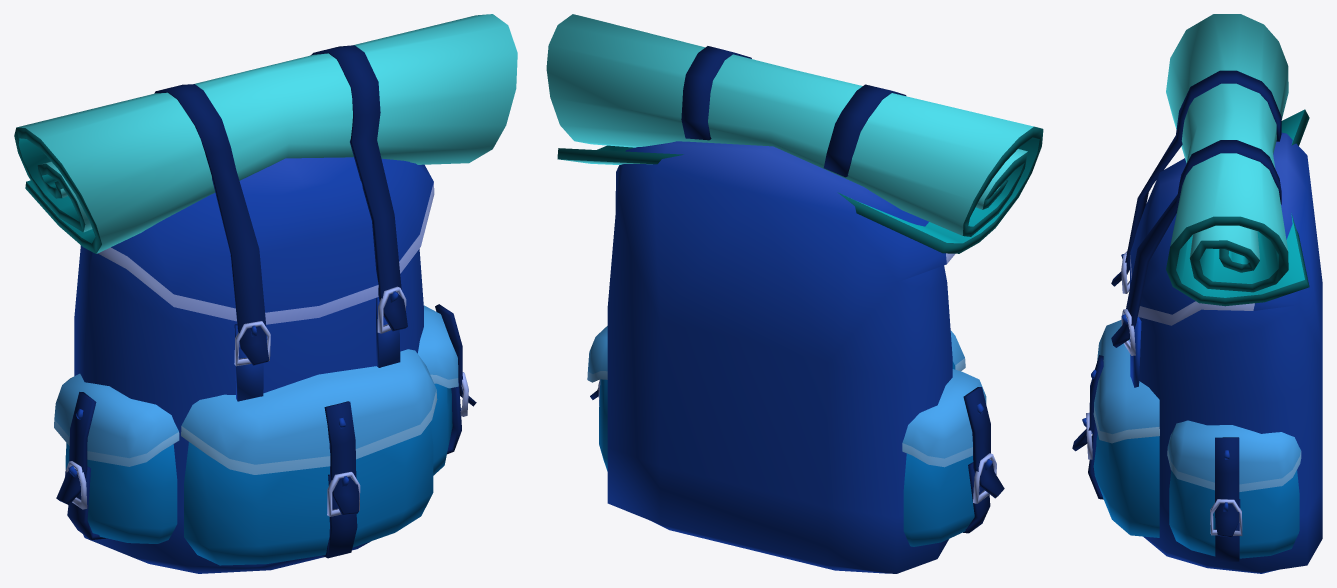
The model's file is SM_BackPack_08.fbx.
The picture shows the model from 3 angles, left to right: view 1: azimuth 30°, elevation 25°; view 2: azimuth 150°, elevation 25°; view 3: azimuth 270°, elevation 25°; orthographic projection. The views are drawn at different scales.
Parts seen in each view (by area): view 1: SM_BackPack_08; view 2: SM_BackPack_08; view 3: SM_BackPack_08.
Boxes of the visible parts, left/top/right/bottom form: SM_BackPack_08: left=14, top=14, right=517, bottom=573; SM_BackPack_08: left=546, top=14, right=1043, bottom=573; SM_BackPack_08: left=1072, top=14, right=1322, bottom=573.
Size of the model in its own units: 133 by 125 by 69.7.
